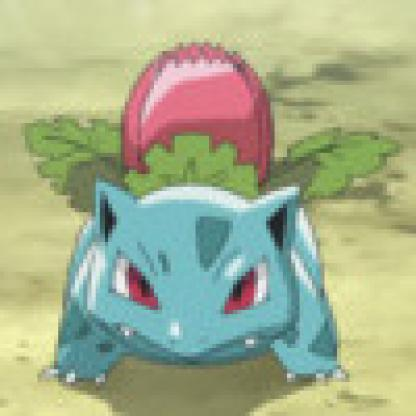Ivysaur: (62, 38, 376, 384)
